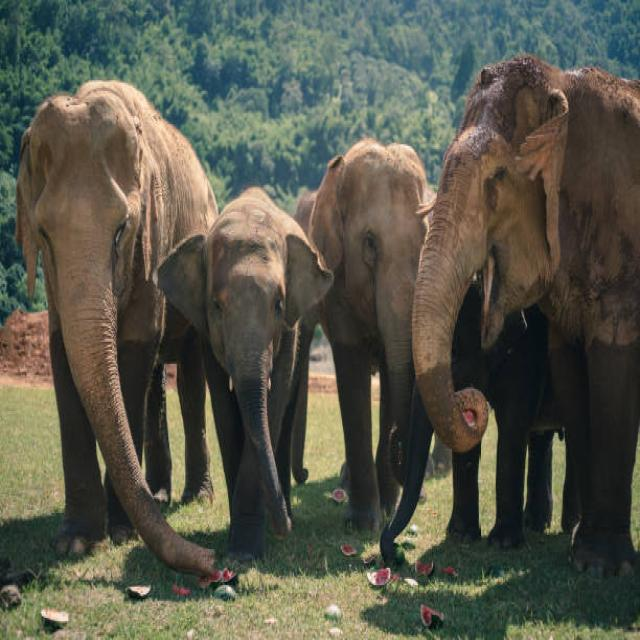Elephant: (415, 56, 640, 558), (9, 83, 200, 567), (166, 185, 314, 557), (311, 122, 426, 508)
